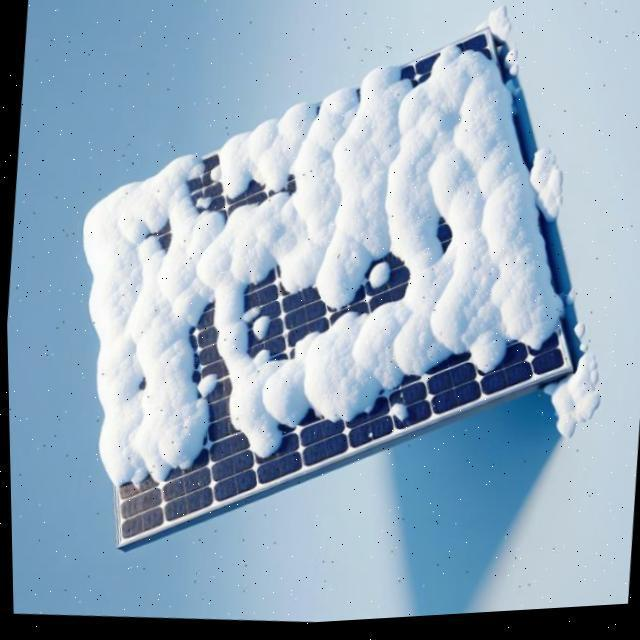Anomaly Solar Panel: (7, 36, 610, 561)
Snow: (18, 39, 576, 509), (363, 266, 385, 294), (383, 406, 408, 429)
